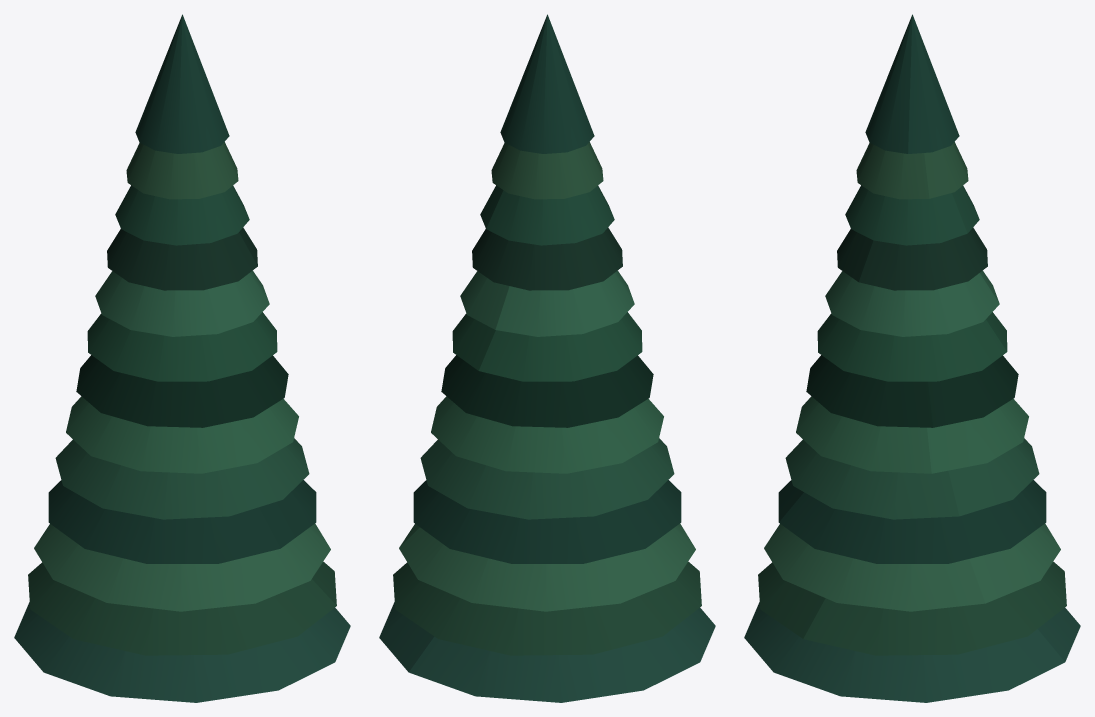
Rendered from spruce-dense.near.glb.
3 views of the same model, side by side, from view 1: azimuth 30°, elevation 25°; view 2: azimuth 150°, elevation 25°; view 3: azimuth 270°, elevation 25° (orthographic).
Visible parts, largest first — view 1: foliage; view 2: foliage; view 3: foliage.
Boxes of the visible parts, x1,y1,x2,y2 form: foliage: [14, 14, 350, 702]; foliage: [379, 14, 715, 702]; foliage: [744, 14, 1080, 702].
Size of the model in its own units: 6 by 13 by 6.
